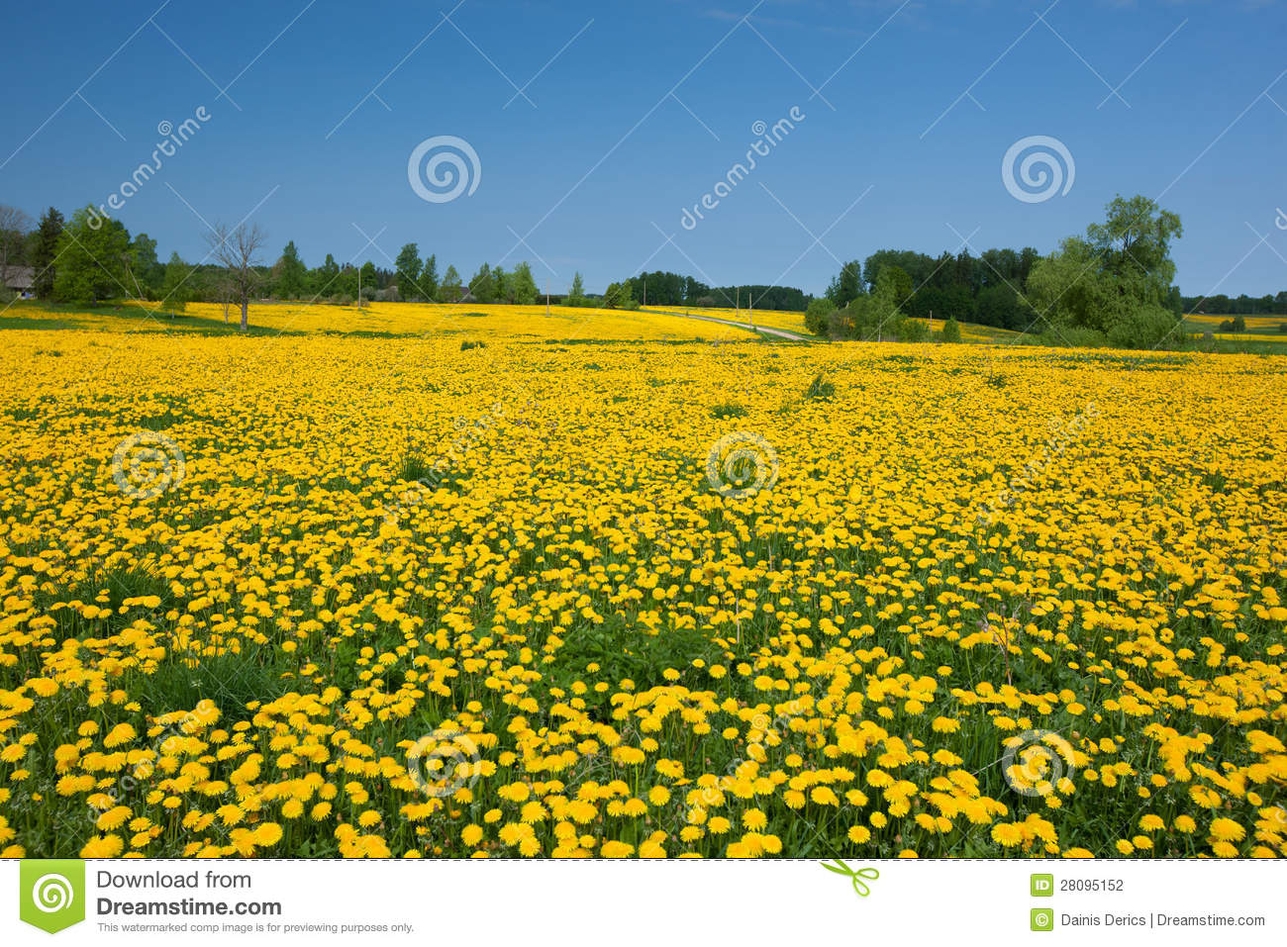begonvil: (245, 683, 378, 781), (279, 773, 357, 825), (328, 822, 393, 865), (608, 735, 651, 787), (561, 796, 608, 843), (239, 820, 291, 859), (88, 796, 134, 840), (50, 766, 100, 806), (602, 788, 655, 824), (194, 718, 241, 757), (116, 588, 167, 623), (98, 719, 145, 754), (495, 777, 534, 815), (1206, 813, 1252, 844), (26, 673, 64, 705), (989, 821, 1025, 854), (1185, 786, 1223, 814), (52, 742, 83, 776), (1148, 657, 1184, 685), (180, 760, 211, 791), (932, 707, 964, 737), (2, 737, 30, 769), (1137, 813, 1169, 840), (867, 766, 898, 793), (73, 716, 107, 740), (540, 751, 567, 781), (989, 711, 1018, 736), (935, 750, 962, 774), (914, 673, 940, 696), (1162, 692, 1188, 714), (973, 677, 995, 701), (1055, 686, 1078, 707), (1079, 766, 1105, 782)
